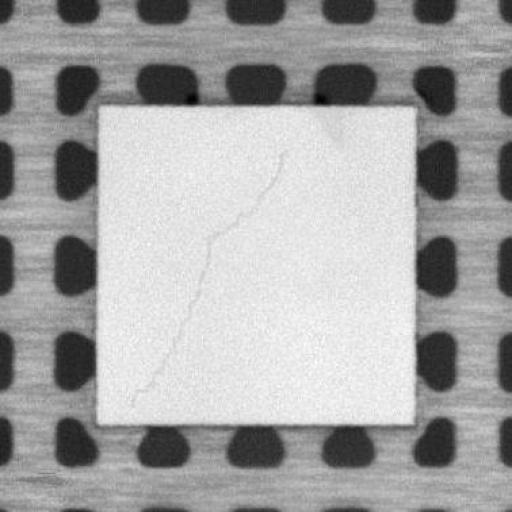DIE_CRACK: (126, 147, 288, 403)
